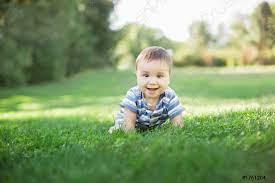child: (102, 43, 194, 144)
